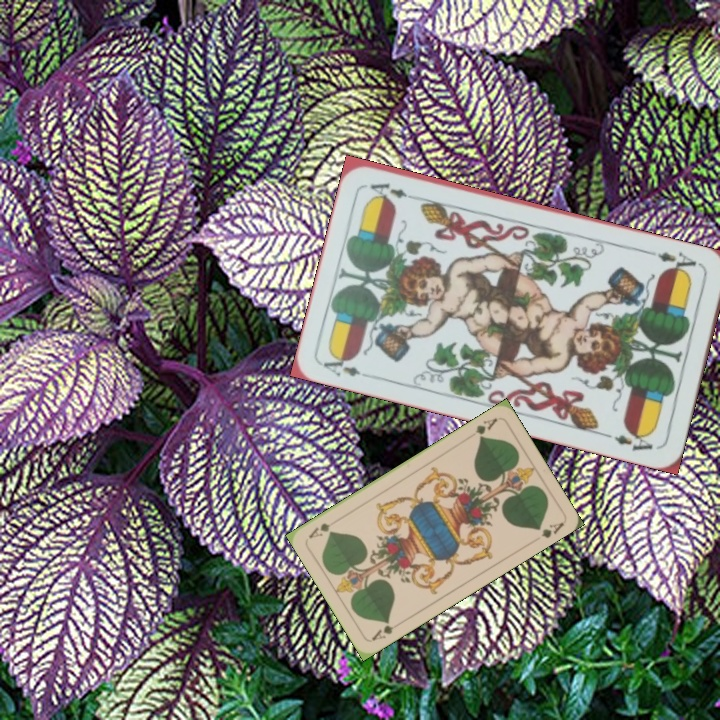EA: (646, 247, 704, 278), (319, 350, 376, 381)
GA: (471, 414, 500, 441), (368, 617, 396, 643)
